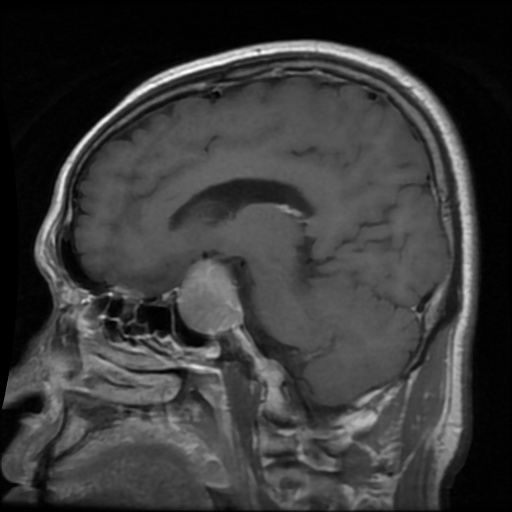pituitary: (177, 257, 244, 334)
